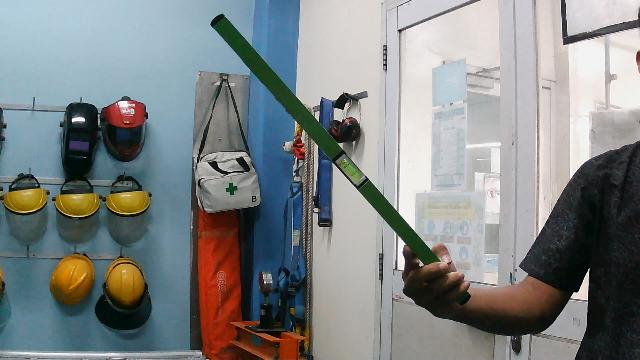water_pass: (202, 7, 475, 310)
